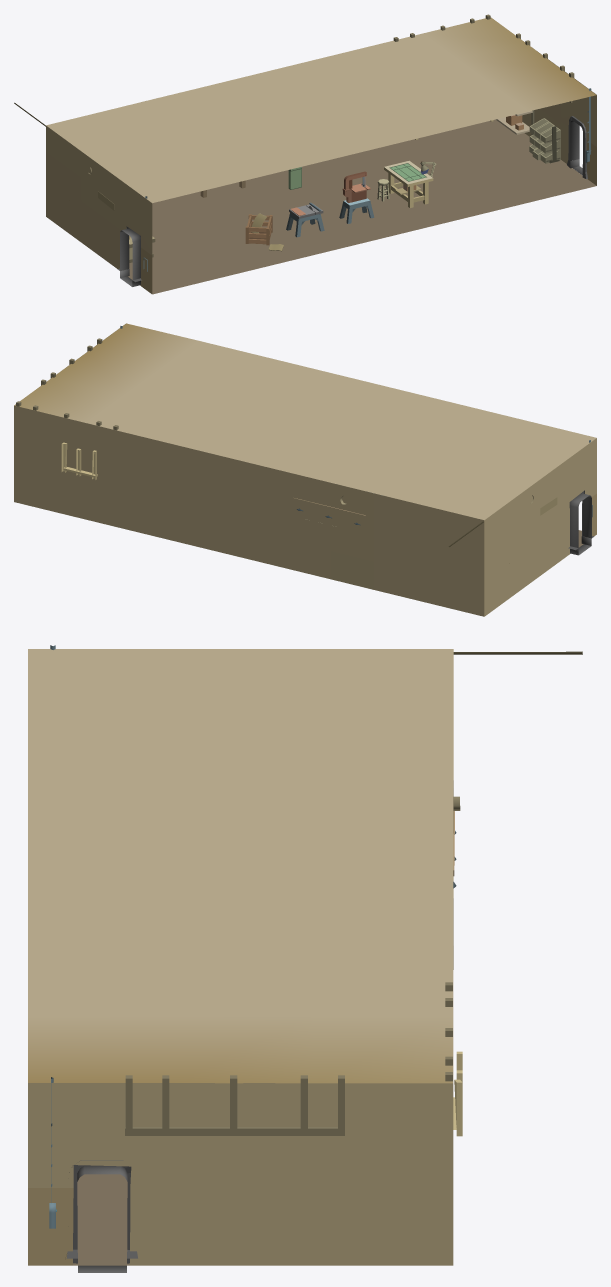
The model's file is MSH_Design_Factory_room_l1_R3_optimized.fbx.
3 views of the same model, one above another, from view 1: azimuth 30°, elevation 25°; view 2: azimuth 150°, elevation 25°; view 3: azimuth 270°, elevation 25° (orthographic). The views are drawn at different scales.
Visible parts, largest first — view 1: lightmap0; view 2: lightmap0; view 3: lightmap0.
Part boxes in pixels (x1,y1,x2,y2): lightmap0: (14, 14, 596, 294); lightmap0: (14, 323, 596, 616); lightmap0: (28, 645, 582, 1272).
Bounding box in the file's own units: 30.91 × 6.08 × 16.15.
